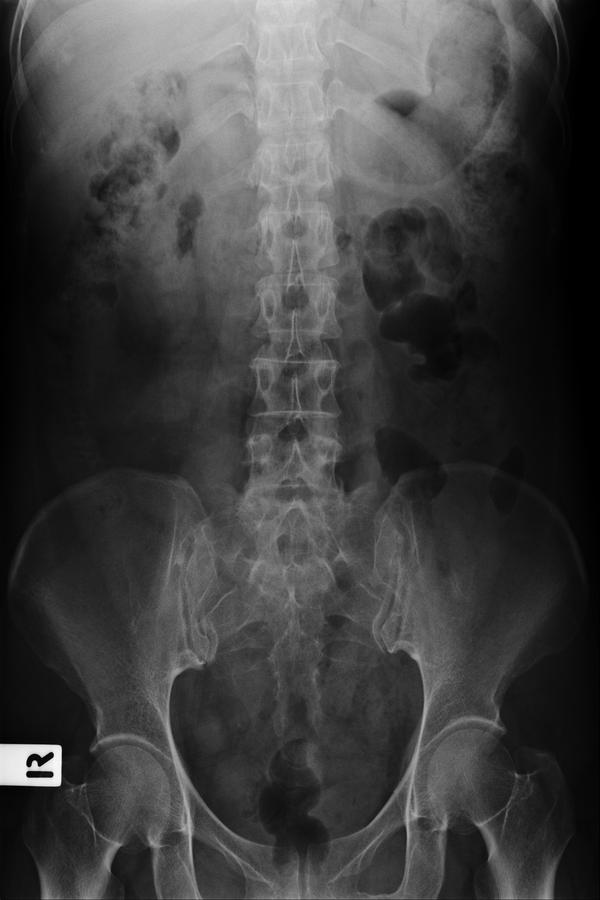lumbar scoliosis: (237, 16, 341, 580)
